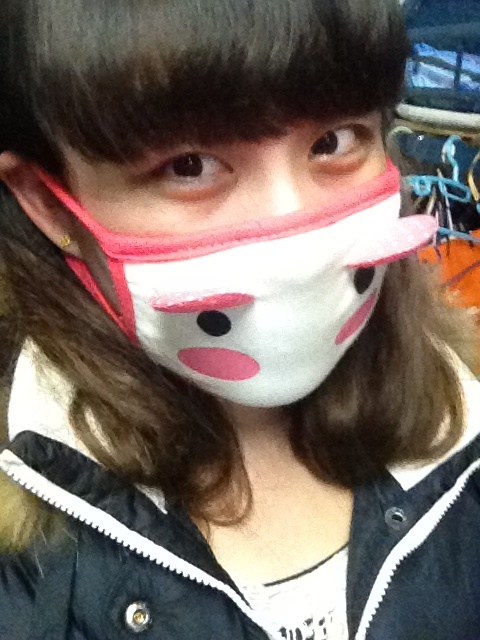face_mask: (76, 1, 405, 408)
